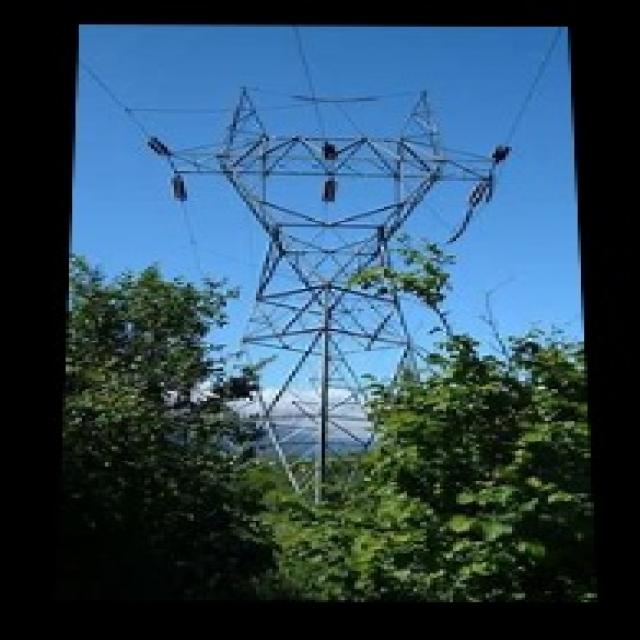utility poles: (345, 237, 521, 370), (170, 252, 303, 406)
